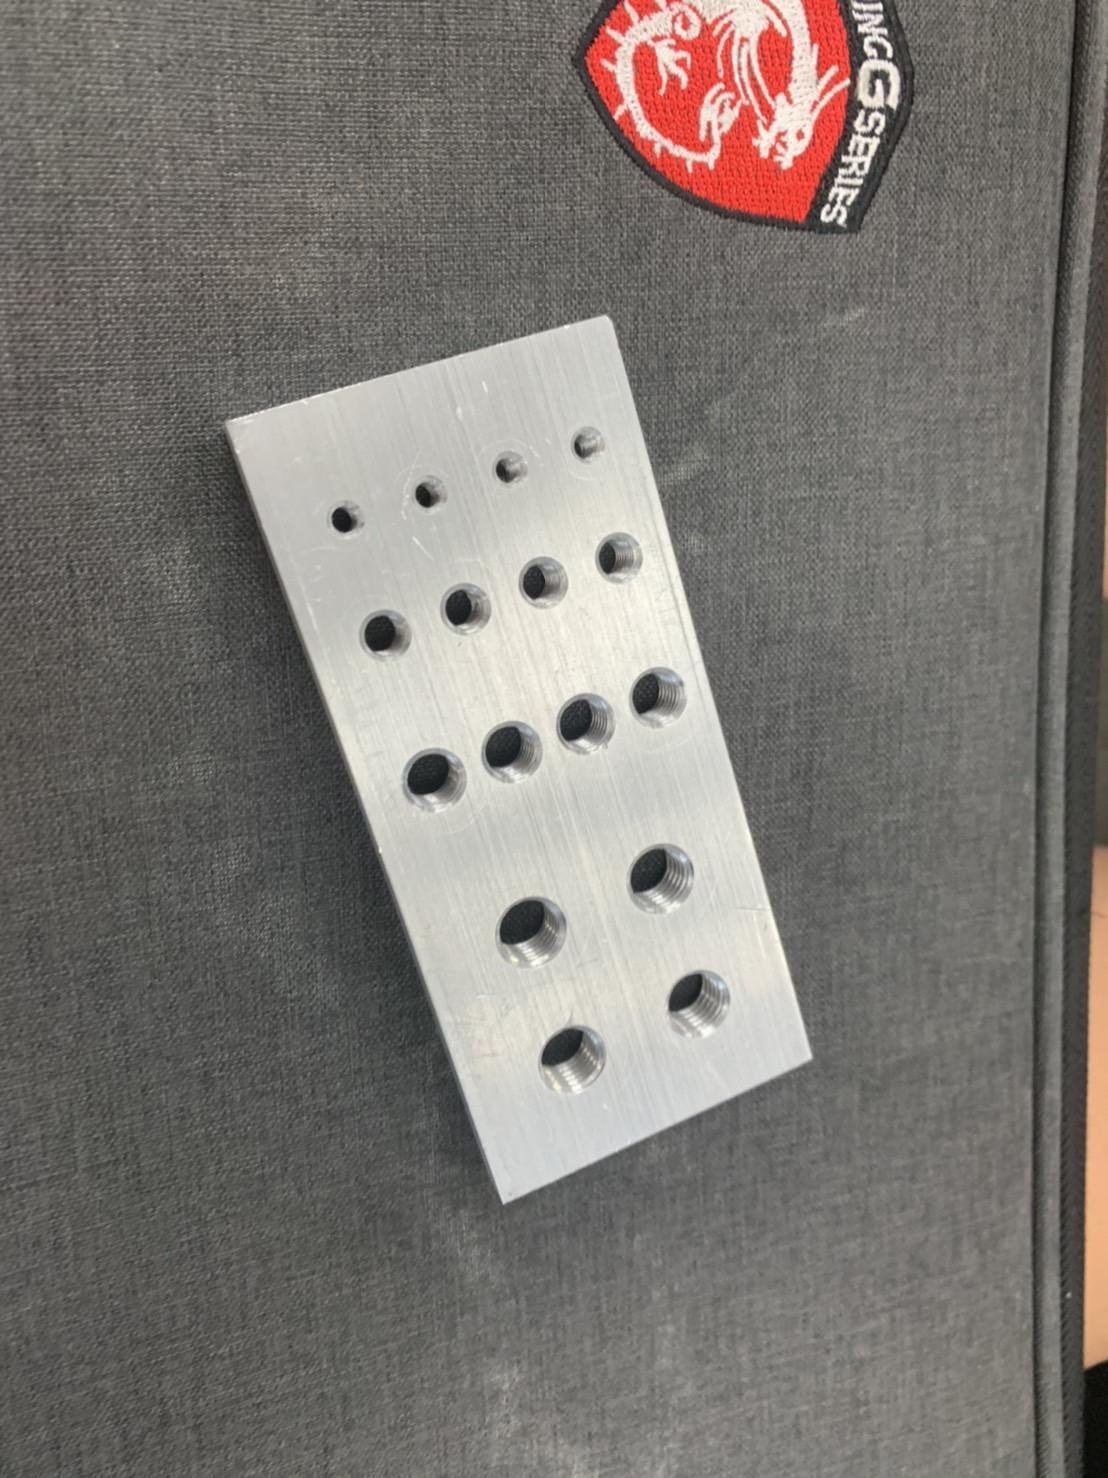hole: (618, 833, 704, 923), (497, 900, 578, 978), (661, 971, 736, 1056), (534, 1019, 612, 1100), (398, 738, 467, 818), (553, 691, 619, 763), (627, 663, 694, 734), (477, 725, 544, 795), (590, 535, 651, 589), (442, 587, 498, 641), (516, 554, 566, 611), (354, 612, 412, 661), (486, 447, 533, 491), (328, 496, 369, 534), (414, 474, 447, 518), (570, 422, 602, 467)
